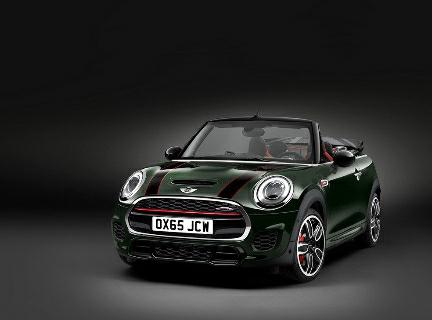MINI-JCW: (112, 115, 385, 287)
